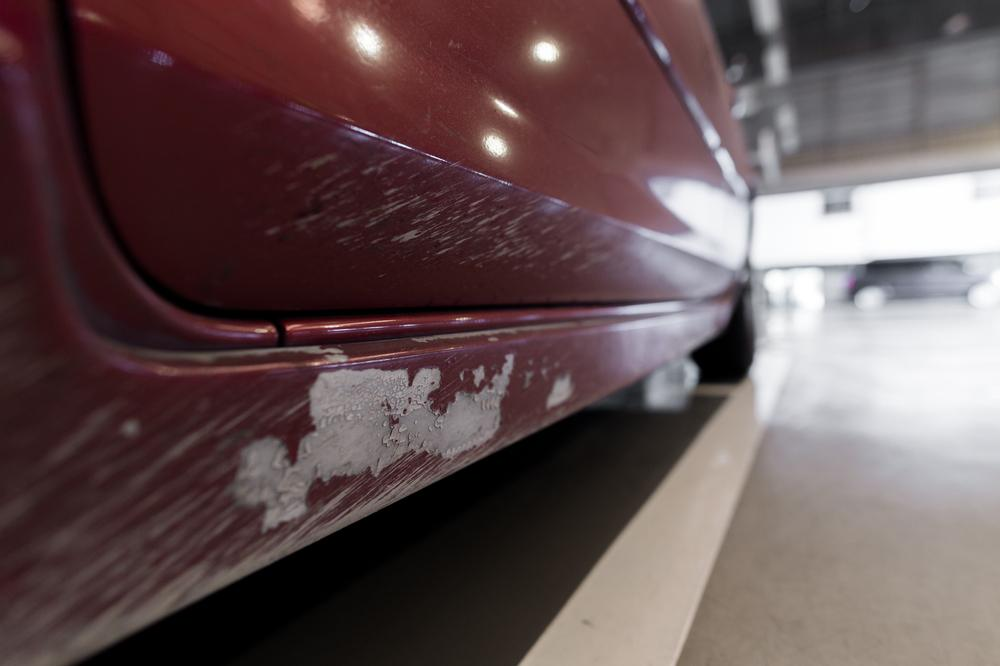scratch: (0, 335, 559, 666), (257, 127, 624, 271)
